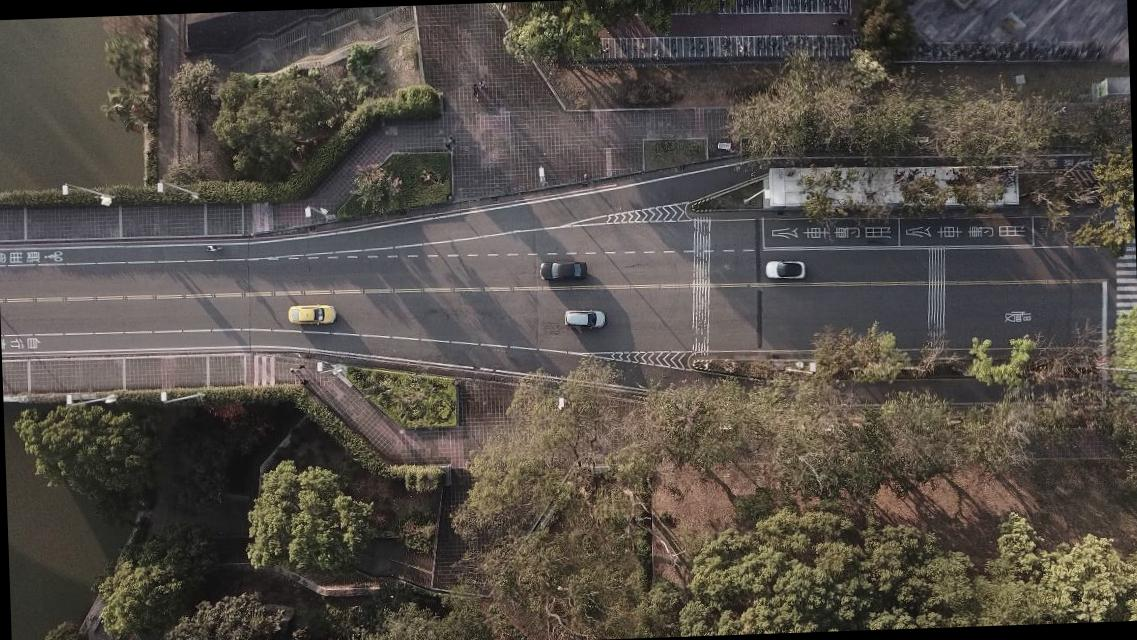vehicle: (287, 302, 335, 327), (562, 307, 606, 330), (539, 260, 586, 281), (764, 260, 805, 280)
